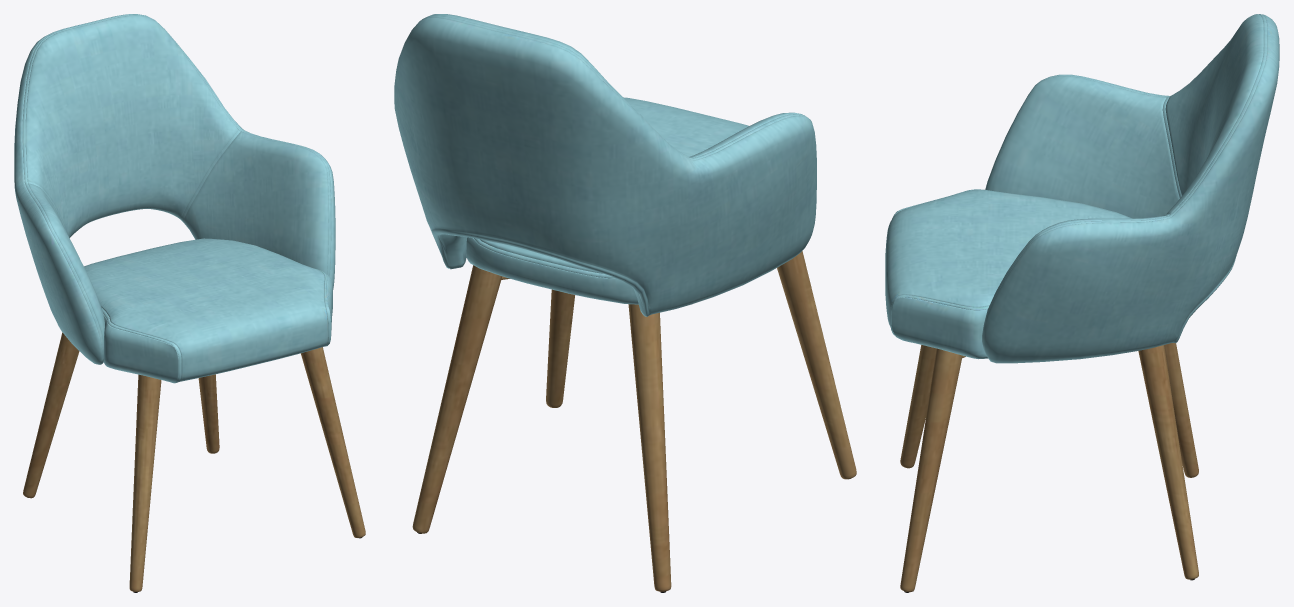
The picture shows the model from 3 angles, left to right: view 1: azimuth 30°, elevation 25°; view 2: azimuth 150°, elevation 25°; view 3: azimuth 270°, elevation 25°; orthographic projection. The views are drawn at different scales.
Visible parts, largest first — view 1: B07HP8Z5YP; view 2: B07HP8Z5YP; view 3: B07HP8Z5YP.
Boxes of the visible parts, x1,y1,x2,y2 form: B07HP8Z5YP: (14, 14, 365, 592); B07HP8Z5YP: (394, 14, 856, 592); B07HP8Z5YP: (885, 14, 1279, 592).
Size of the model in its own units: 0.59 by 0.84 by 0.6101.
1 material, 1 textured.
